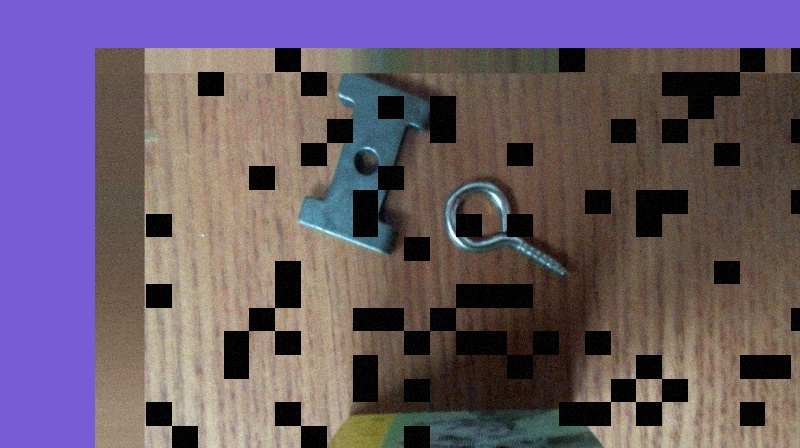O001: (440, 179, 570, 280)
O002: (294, 74, 435, 258)
